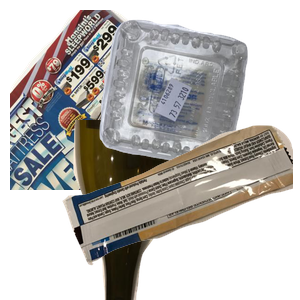glass: (71, 120, 254, 300)
paper: (10, 10, 240, 190)
plastic: (97, 17, 300, 176)
trash: (60, 123, 300, 300)
